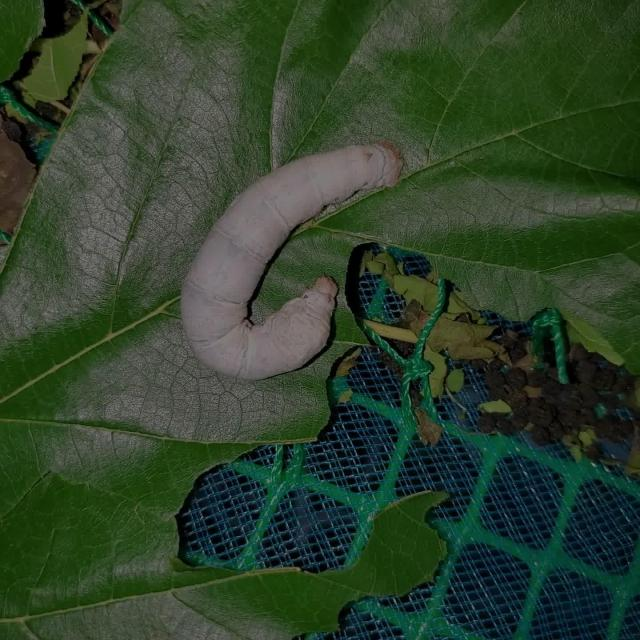Healthy: (169, 117, 412, 393)
